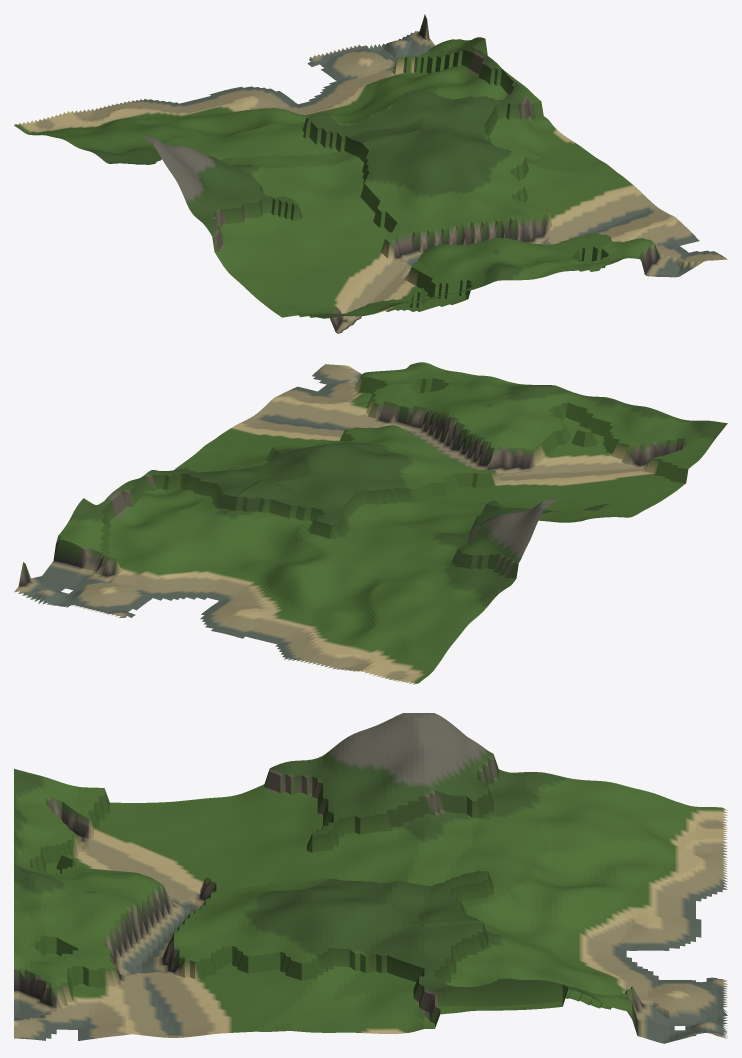
Rendered from coast_tile_x0z2.glb.
The picture shows the model from 3 angles, top to bottom: view 1: azimuth 30°, elevation 25°; view 2: azimuth 150°, elevation 25°; view 3: azimuth 270°, elevation 25°; orthographic projection. The views are drawn at different scales.
Parts seen in each view (by area): view 1: geometry_0; view 2: geometry_0; view 3: geometry_0.
Boxes of the visible parts, <box> form: geometry_0: <box>14,14,727,333</box>; geometry_0: <box>14,362,727,684</box>; geometry_0: <box>14,713,727,1043</box>.
Bounding box in the file's own units: 600 × 134 × 804.
